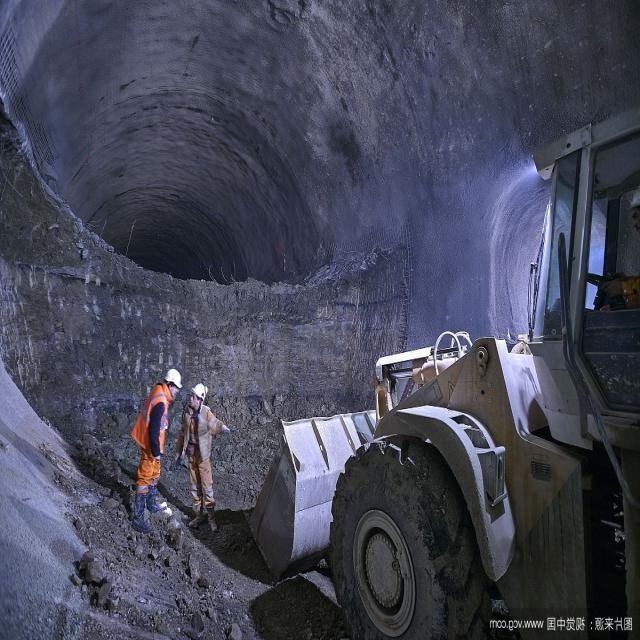Con_Casco: (191, 382, 209, 407)
Con_Chaleco: (131, 386, 173, 457)
